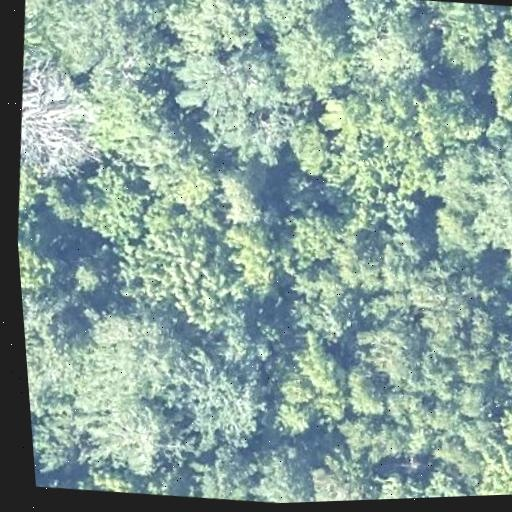tree-top: (304, 80, 448, 221), (402, 273, 512, 424), (194, 42, 318, 167), (233, 328, 362, 448), (421, 124, 512, 290), (20, 267, 106, 420), (11, 55, 111, 185), (72, 68, 192, 171), (113, 219, 227, 325), (164, 336, 263, 450), (89, 300, 192, 402), (41, 0, 168, 81), (267, 5, 367, 101), (92, 385, 187, 481), (208, 218, 305, 312), (74, 150, 161, 245), (335, 224, 435, 306), (357, 6, 444, 90), (280, 265, 370, 344), (429, 0, 511, 83), (157, 0, 269, 58), (407, 83, 487, 162), (348, 313, 423, 392), (241, 435, 322, 504), (211, 155, 285, 229), (182, 441, 260, 504), (30, 398, 91, 478), (285, 205, 350, 279), (368, 456, 476, 500), (462, 419, 512, 496), (480, 28, 512, 127)
